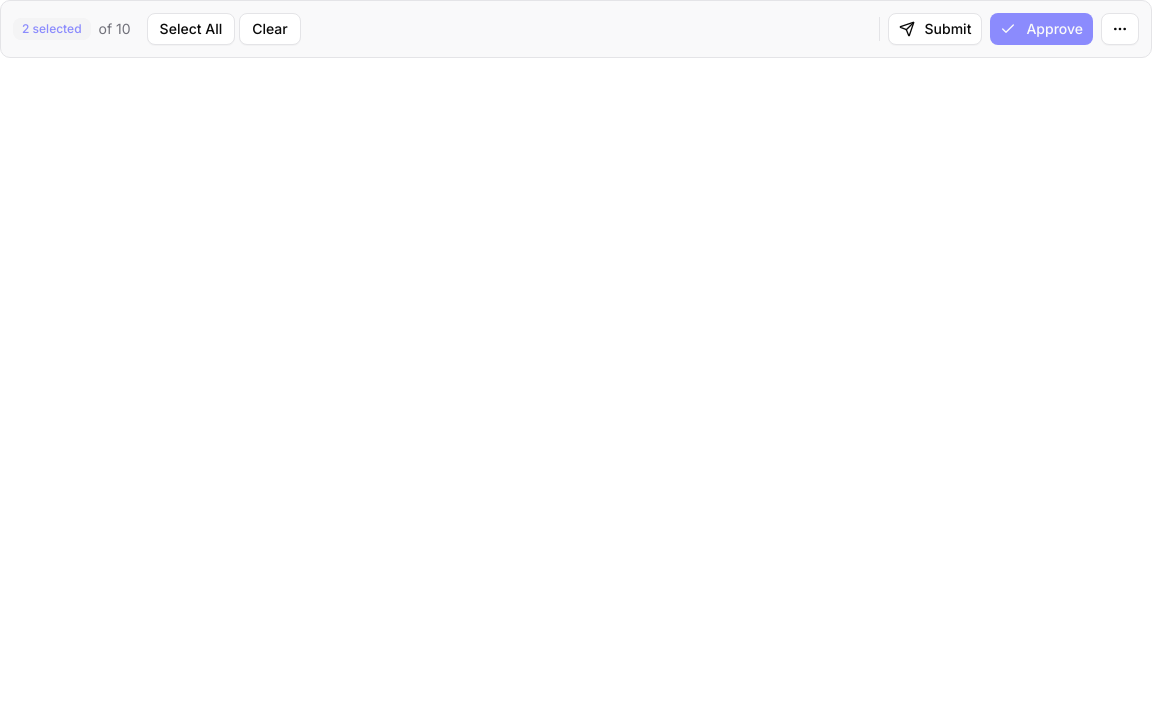
Scenario: BulkActionToolbar › Action Execution › should show confirmation dialog for actions requiring confirmation
The width and height of the screenshot is (1152, 720).
Click the button "Submit".
click(935, 29)  # box 888,13 -> 982,45
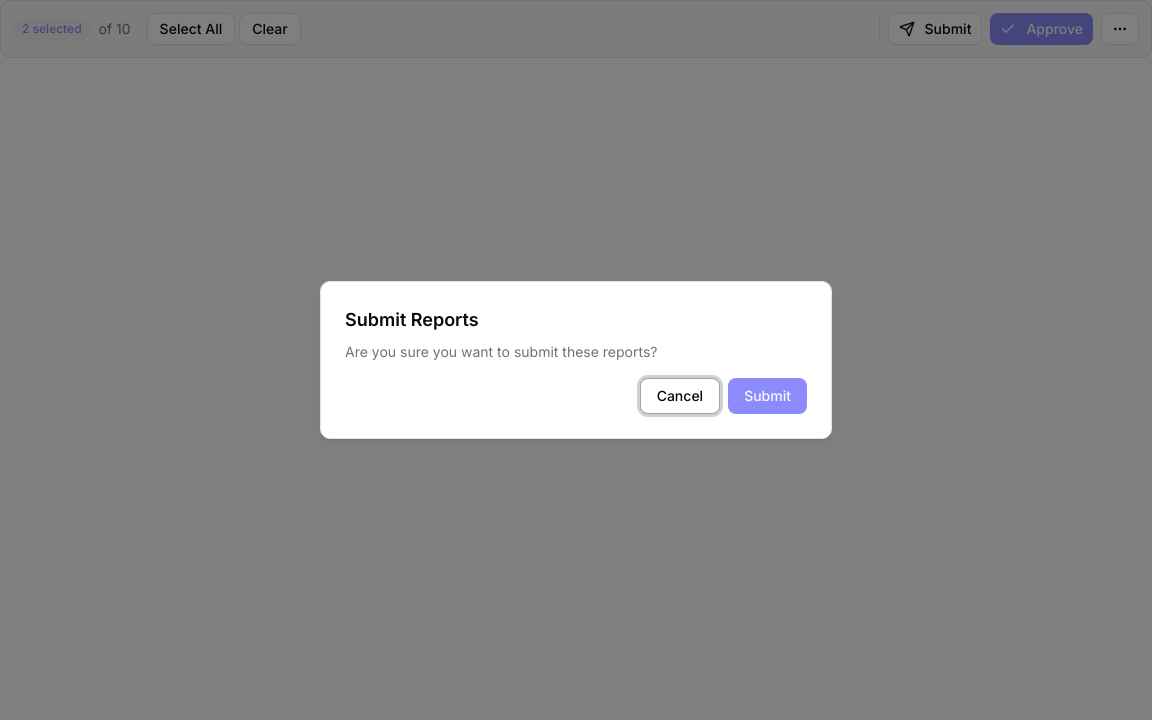
Result: the heading "Submit Reports" is shown at 345,309 -> 479,330
Result: the text "Are you sure you want to submit these reports?" is shown at 345,343 -> 658,360
